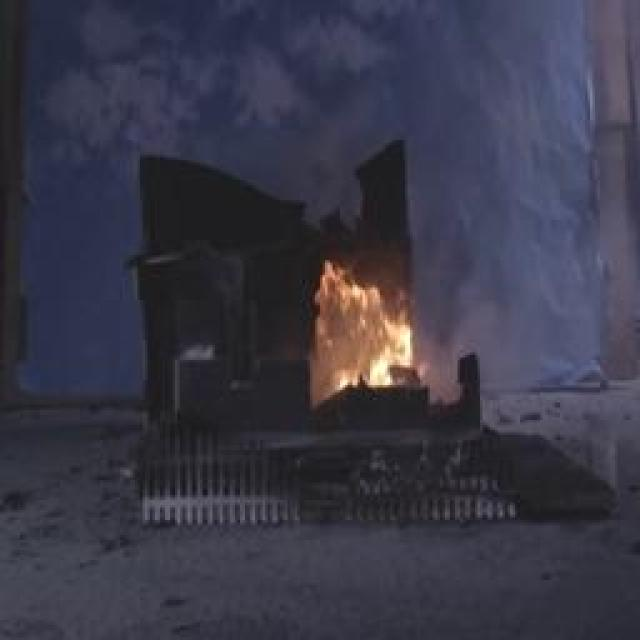fire: (286, 238, 422, 404)
